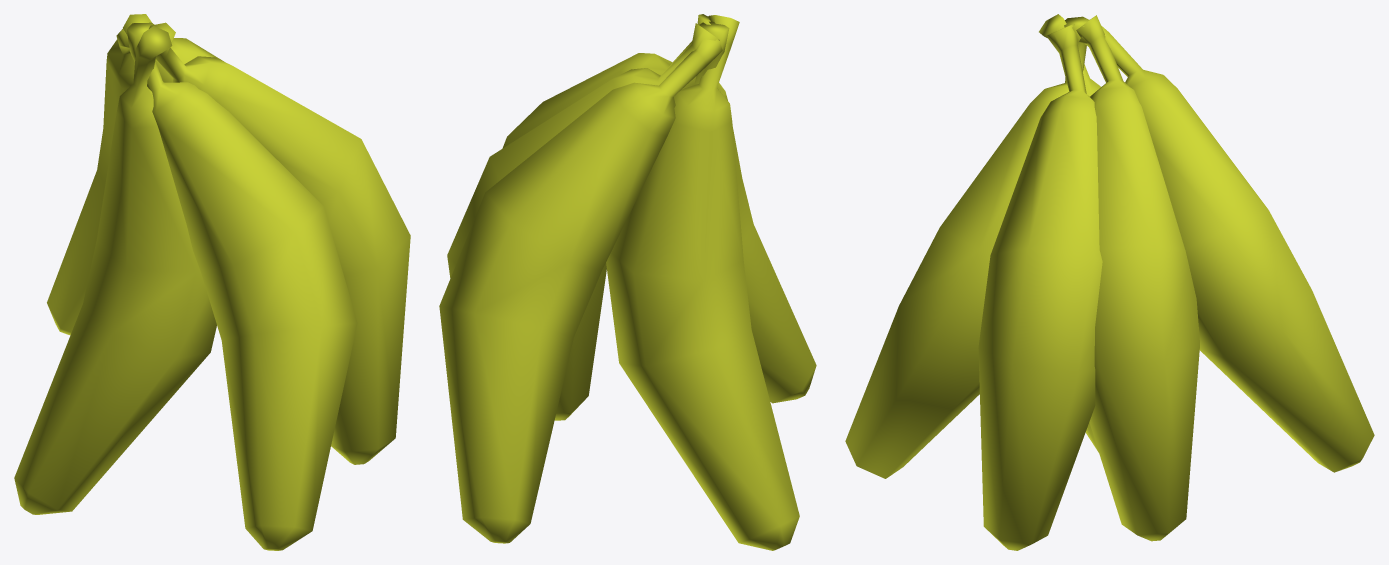
The model's file is naners.fbx.
3 views of the same model, side by side, from view 1: azimuth 30°, elevation 25°; view 2: azimuth 150°, elevation 25°; view 3: azimuth 270°, elevation 25° (orthographic). The views are drawn at different scales.
Parts seen in each view (by area): view 1: Cylinder.001, Cylinder, Cylinder.002, Cylinder.003, Cylinder.004; view 2: Cylinder.003, Cylinder, Cylinder.001, Cylinder.002, Cylinder.004; view 3: Cylinder.002, Cylinder.004, Cylinder.003, Cylinder.001, Cylinder.
Boxes of the visible parts, bbox=[...] form: Cylinder.001: bbox=[127, 22, 357, 550]; Cylinder: bbox=[14, 26, 216, 514]; Cylinder.002: bbox=[149, 22, 410, 464]; Cylinder.003: bbox=[47, 29, 134, 335]; Cylinder.004: bbox=[123, 14, 223, 82]; Cylinder.003: bbox=[439, 39, 722, 543]; Cylinder: bbox=[606, 15, 799, 550]; Cylinder.001: bbox=[682, 21, 816, 403]; Cylinder.002: bbox=[502, 14, 710, 420]; Cylinder.004: bbox=[447, 23, 719, 278]; Cylinder.002: bbox=[978, 24, 1102, 550]; Cylinder.004: bbox=[1076, 15, 1199, 541]; Cylinder.003: bbox=[1079, 26, 1374, 472]; Cylinder.001: bbox=[845, 16, 1089, 478]; Cylinder: bbox=[1039, 14, 1100, 452].
Bounding box in the file's own units: 298 × 414 × 422.
